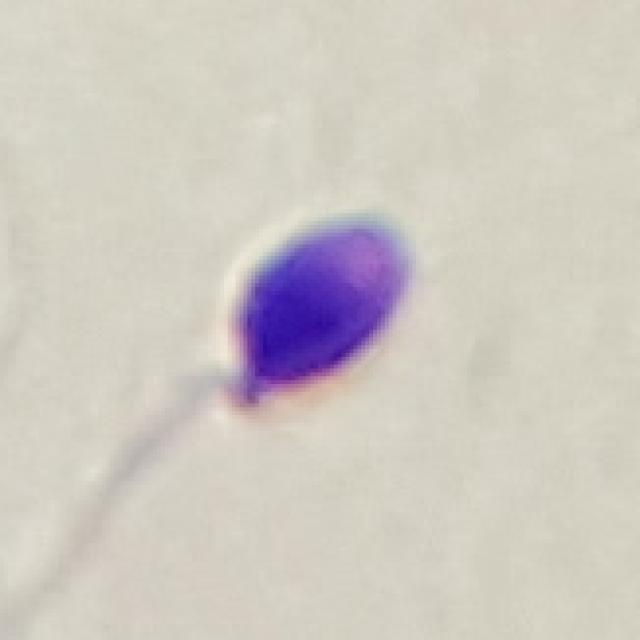normal sperm: (143, 212, 412, 449)
